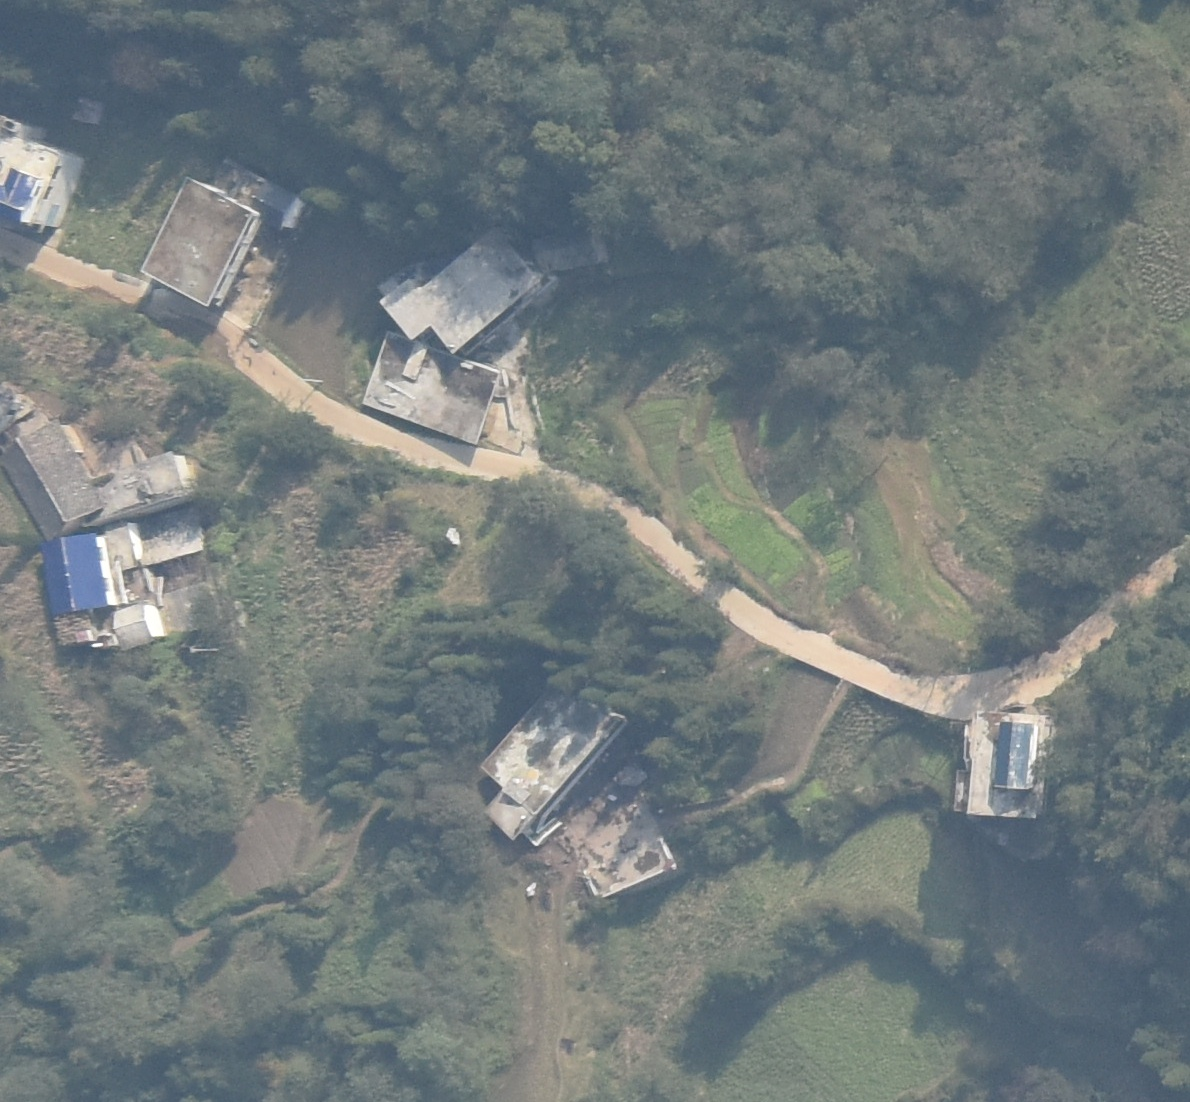building: (1, 406, 198, 533), (473, 686, 619, 854), (382, 215, 544, 360), (359, 333, 521, 442), (145, 175, 256, 308), (568, 804, 676, 898), (962, 705, 1047, 821), (1, 116, 68, 237), (42, 522, 118, 630), (237, 177, 332, 244), (100, 601, 186, 653)
